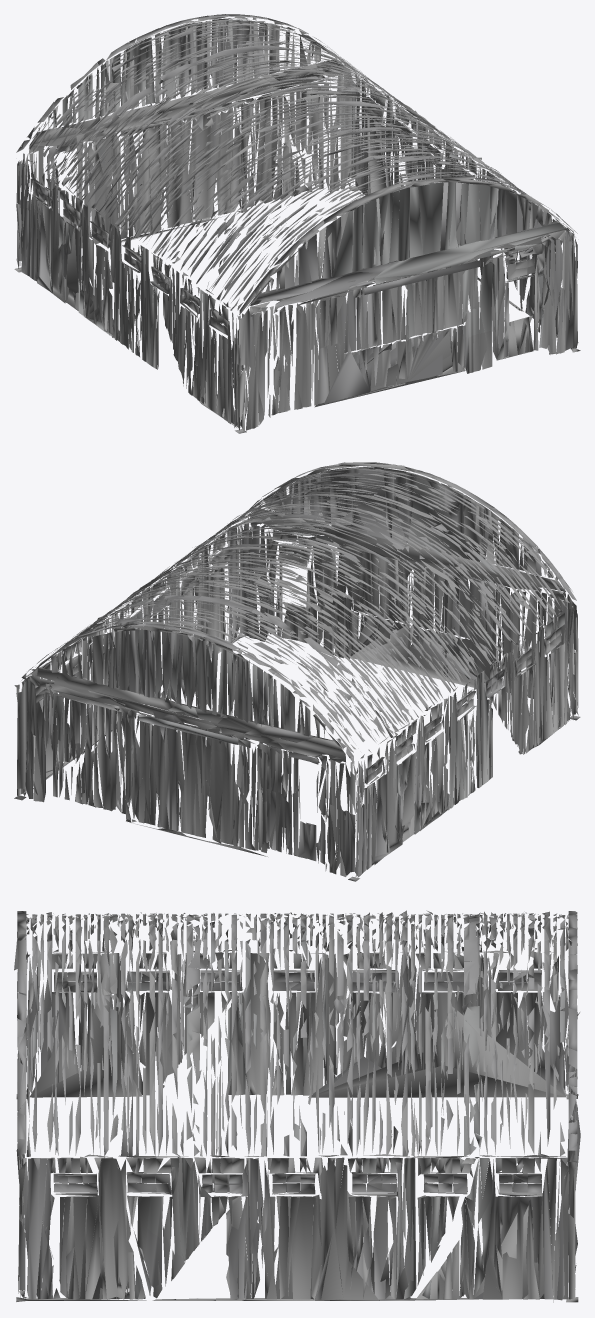
The model's file is hangar.glb.
The picture shows the model from 3 angles, top to bottom: view 1: azimuth 30°, elevation 25°; view 2: azimuth 150°, elevation 25°; view 3: azimuth 270°, elevation 25°; orthographic projection. The views are drawn at different scales.
Parts seen in each view (by area): view 1: LO.001; view 2: LO.001; view 3: LO.001.
Boxes of the visible parts, x1,y1,x2,y2 form: LO.001: (14, 14, 580, 433); LO.001: (14, 462, 580, 881); LO.001: (14, 910, 580, 1302).
Size of the model in its own units: 1.67 by 0.9861 by 1.92.
1 material, 1 textured.
